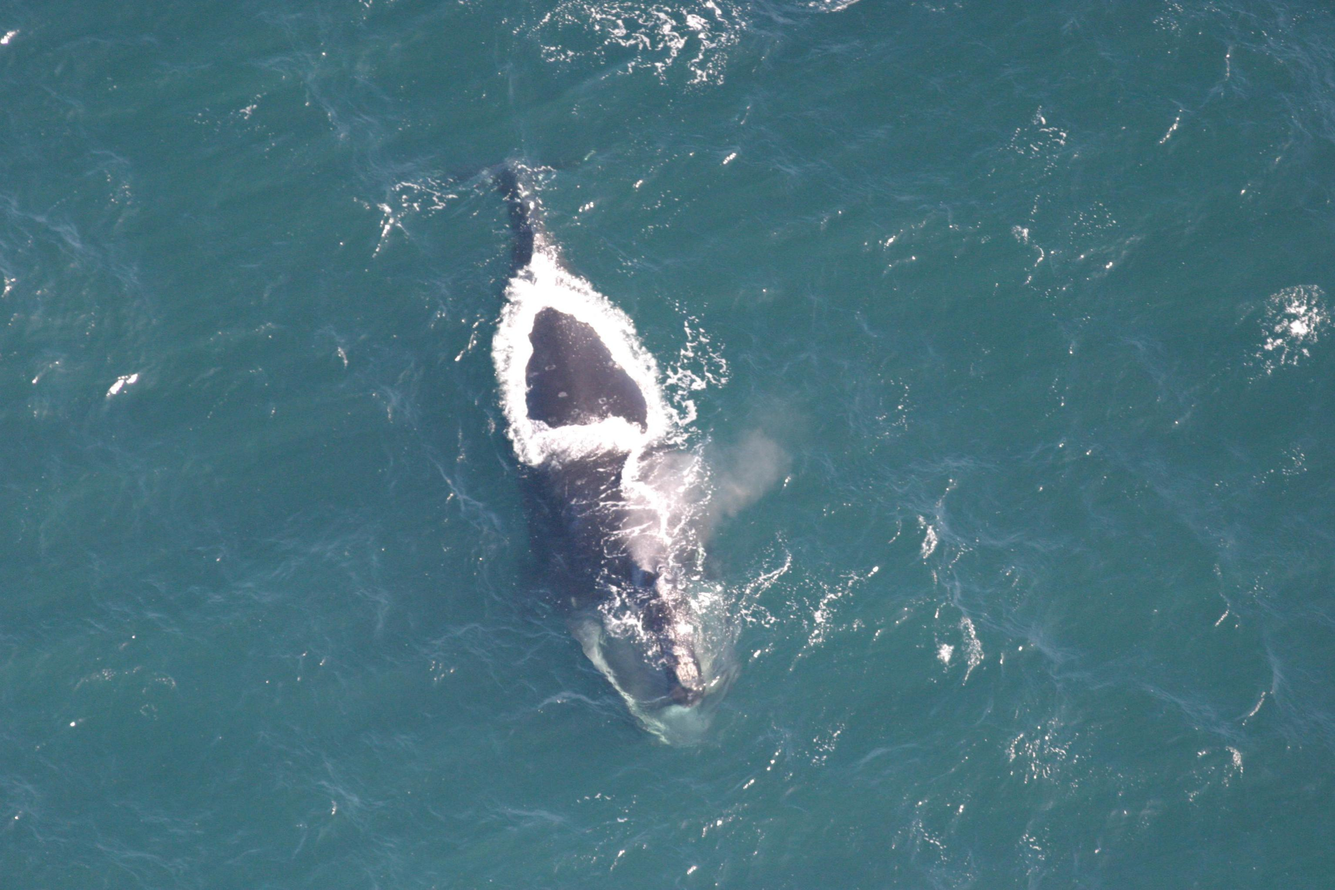whale: (381, 117, 755, 757)
